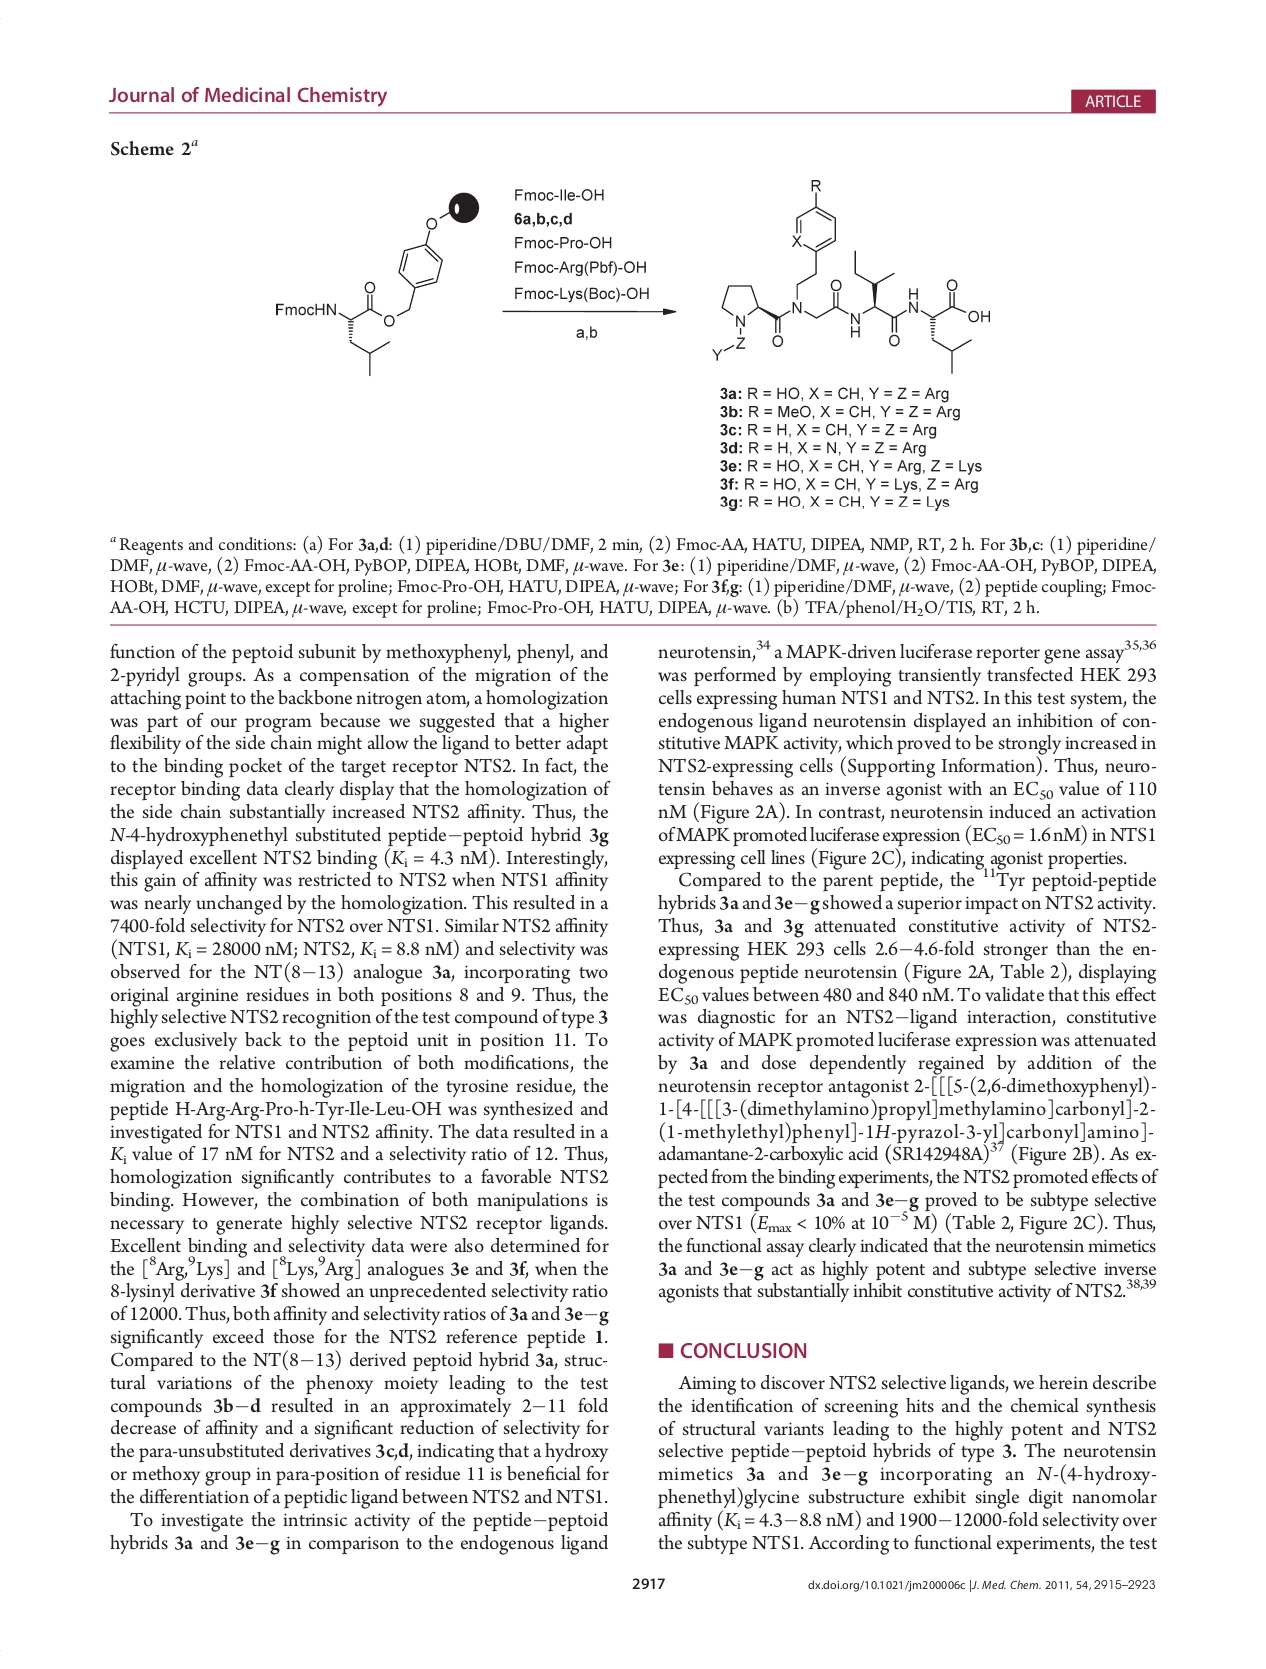exist_molecular: (703, 176, 995, 372), (267, 188, 481, 376)
